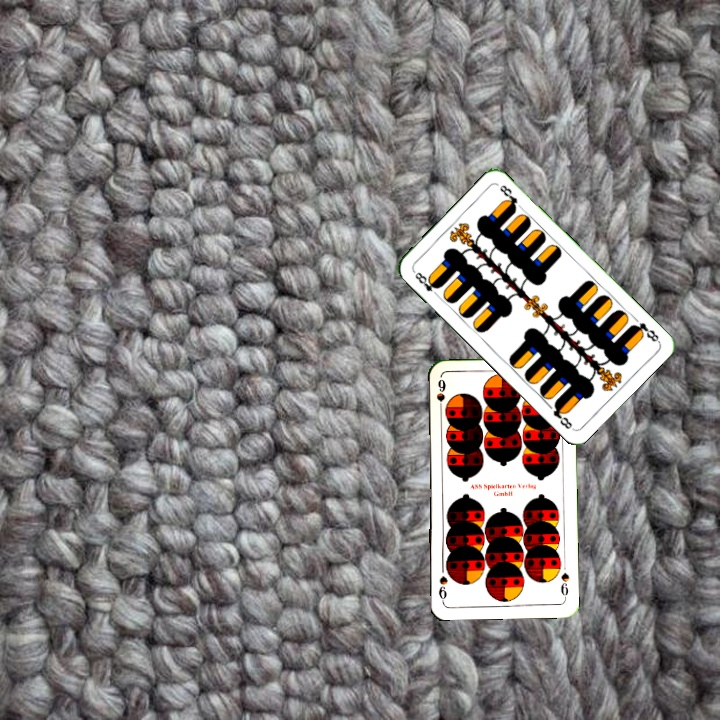E8: (409, 267, 442, 299), (627, 318, 661, 344)
S9: (433, 375, 448, 415), (556, 569, 571, 601)
